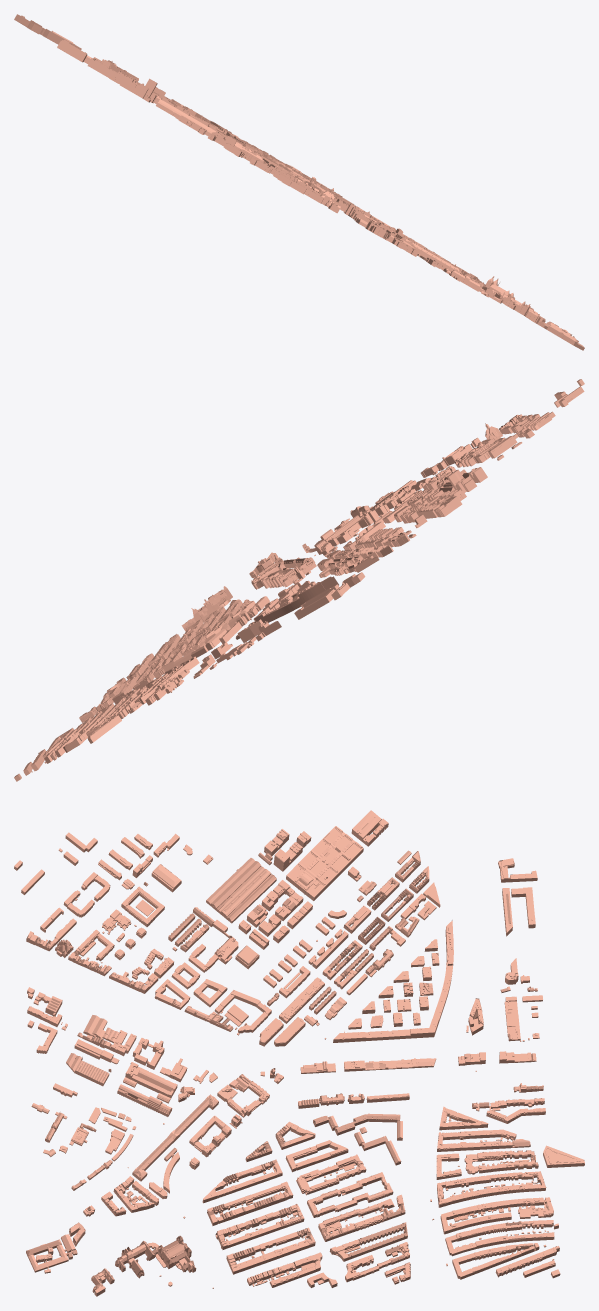
3 renders of one model, top to bottom at view 1: azimuth 30°, elevation 25°; view 2: azimuth 150°, elevation 25°; view 3: azimuth 270°, elevation 25°, orthographic. The views are drawn at different scales.
Bounding box in the file's own units: 3.47e+07 × 2.56e+07 × 4.4e+07.
